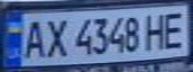3: (90, 15, 112, 55)
4: (72, 15, 93, 56), (106, 14, 127, 54)
8: (121, 12, 145, 52)
A: (18, 16, 48, 60)
E: (160, 8, 193, 50)
H: (142, 10, 172, 52)
X: (42, 15, 72, 58)
